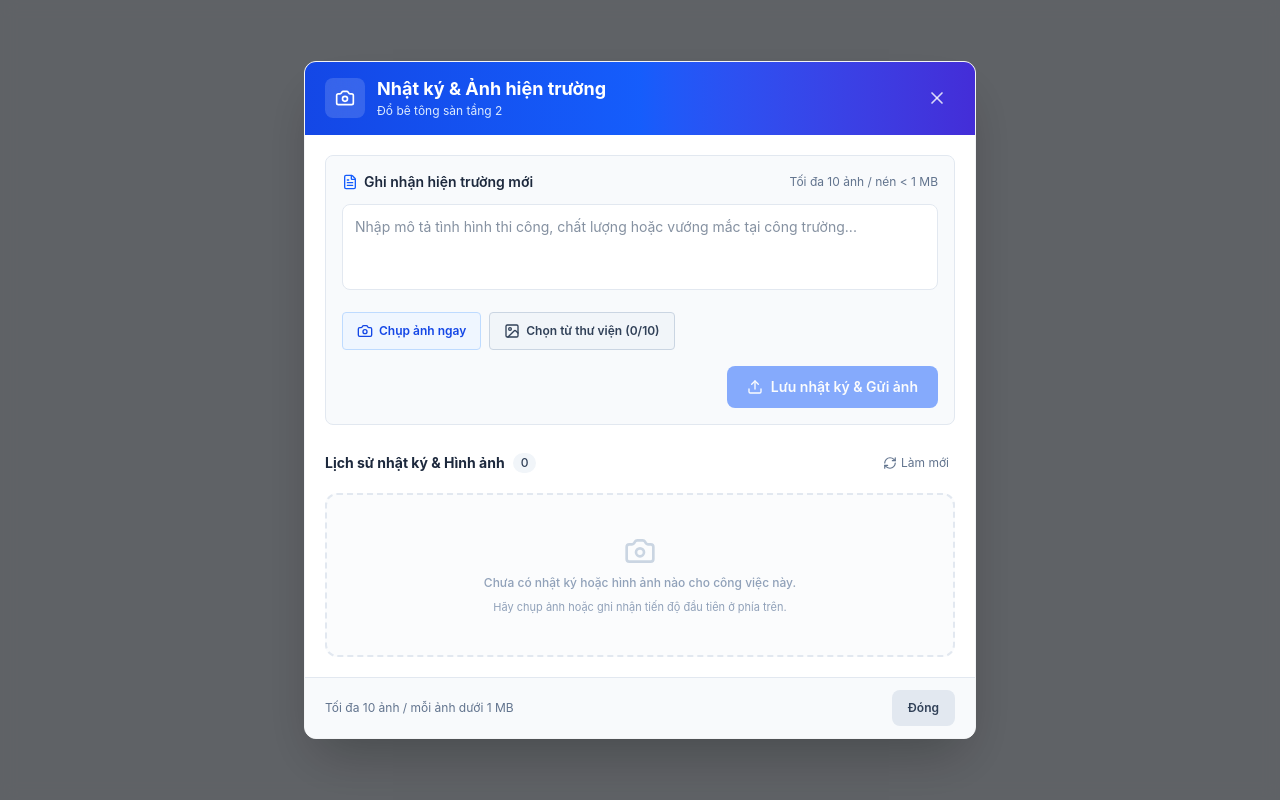
Test case: TaskLogModal (S-23 / T-53) › 7. hiển thị thông báo lỗi và nút Thử lại khi API T52 trả lỗi, sau đó bấm Thử lại thành công
Type "Nội dung thử lại" into the text box with placeholder "Nhập mô tả tình hình thi công" at [640, 246], box [342,204,938,290]
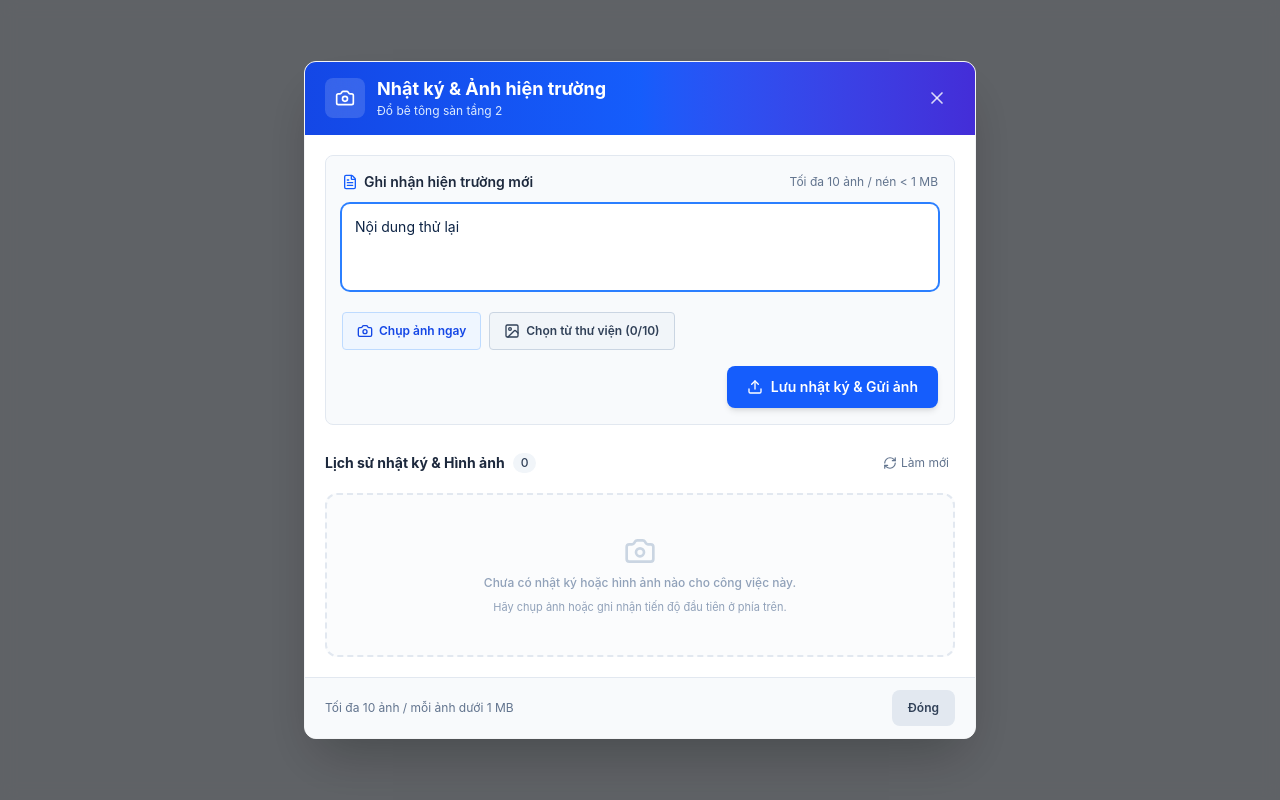
Click the button "Lưu nhật ký & Gửi ảnh" at [832, 386], box [727,366,938,408]
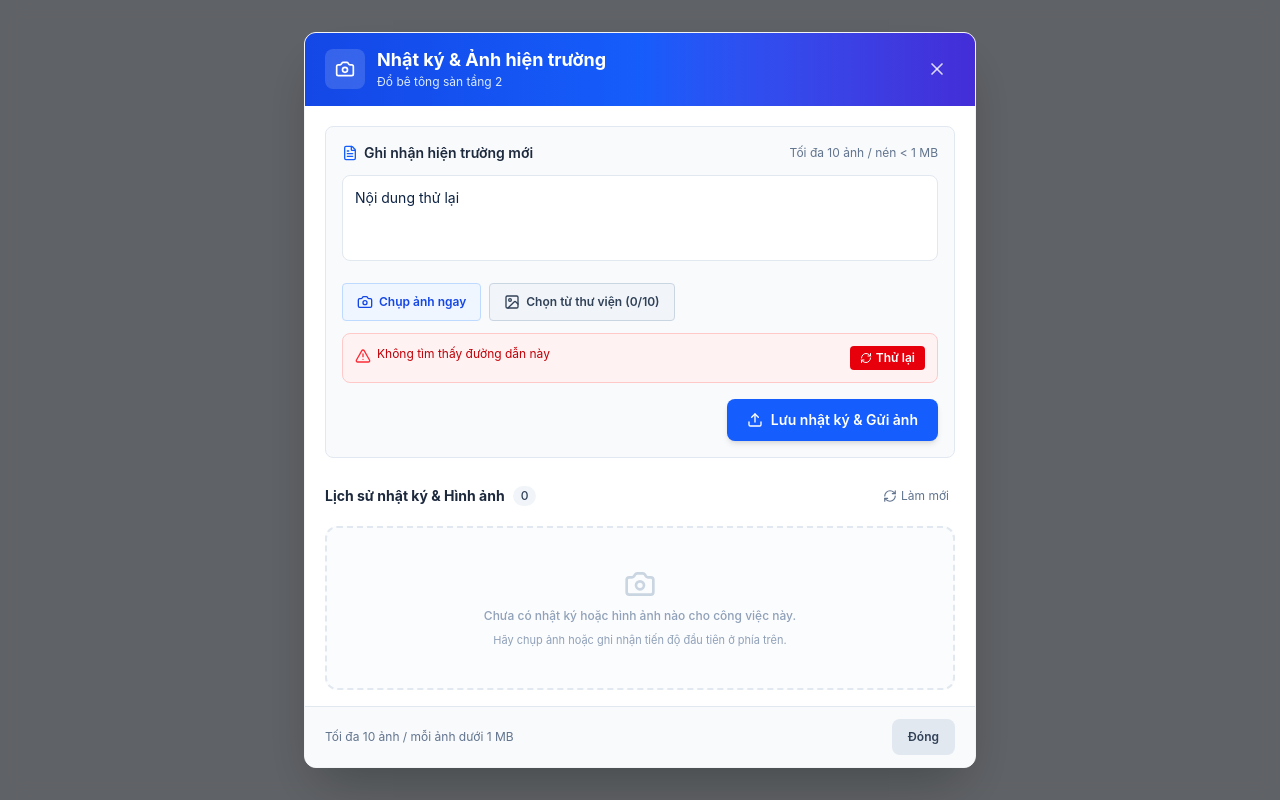
expect the text "Không tìm thấy đường dẫn này" is shown: met, box [377,346,550,362]
expect the button "Thử lại" is shown: met
Click the button "Thử lại" at [887, 358], box [850,346,925,370]
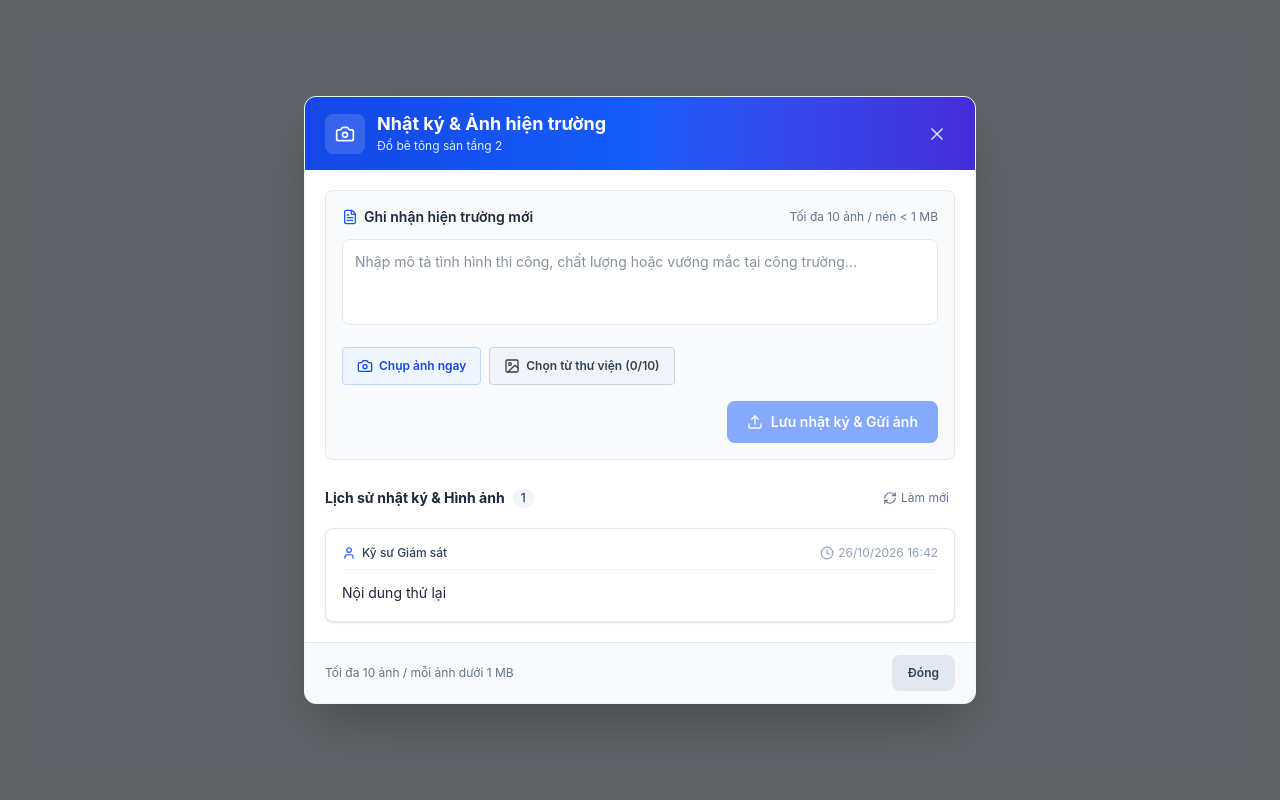
expect the text "Không tìm thấy đường dẫn này" is gone: met
expect the text "Nội dung thử lại" is shown: met, box [342,584,446,601]
